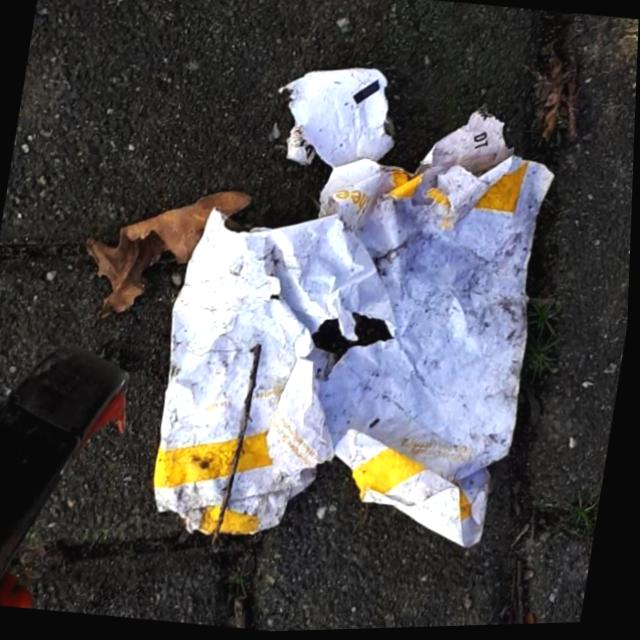Paper: (139, 39, 579, 578)
